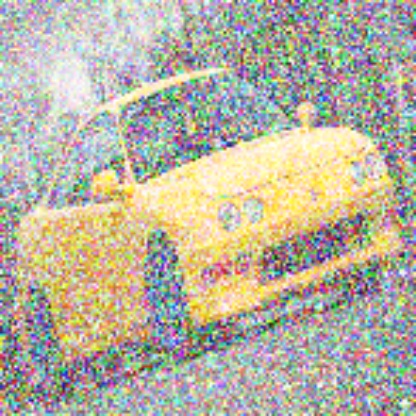Vehicle: (14, 67, 403, 408)
